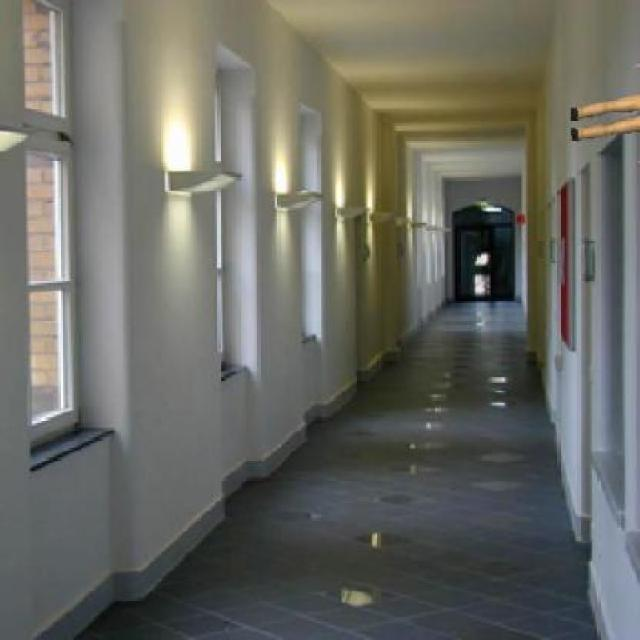Person: (568, 91, 640, 149)
